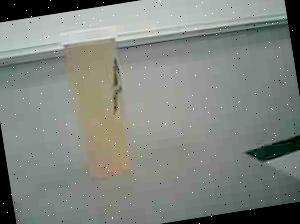Bottle A: (60, 28, 129, 178)
